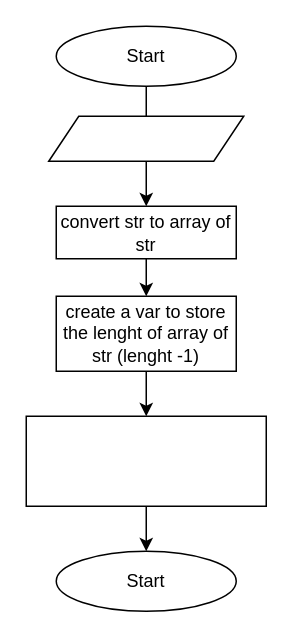
Image size: 293x638. Some labels were removed from this diagram. The shapes that lost their labels are listed below. From the top down, each one's box as (x1, y1, x2, y2) in pixels, then its label:
(47, 115, 244, 161): Input a string
(25, 415, 266, 506): Iterate over each elem of array and swap them with last
